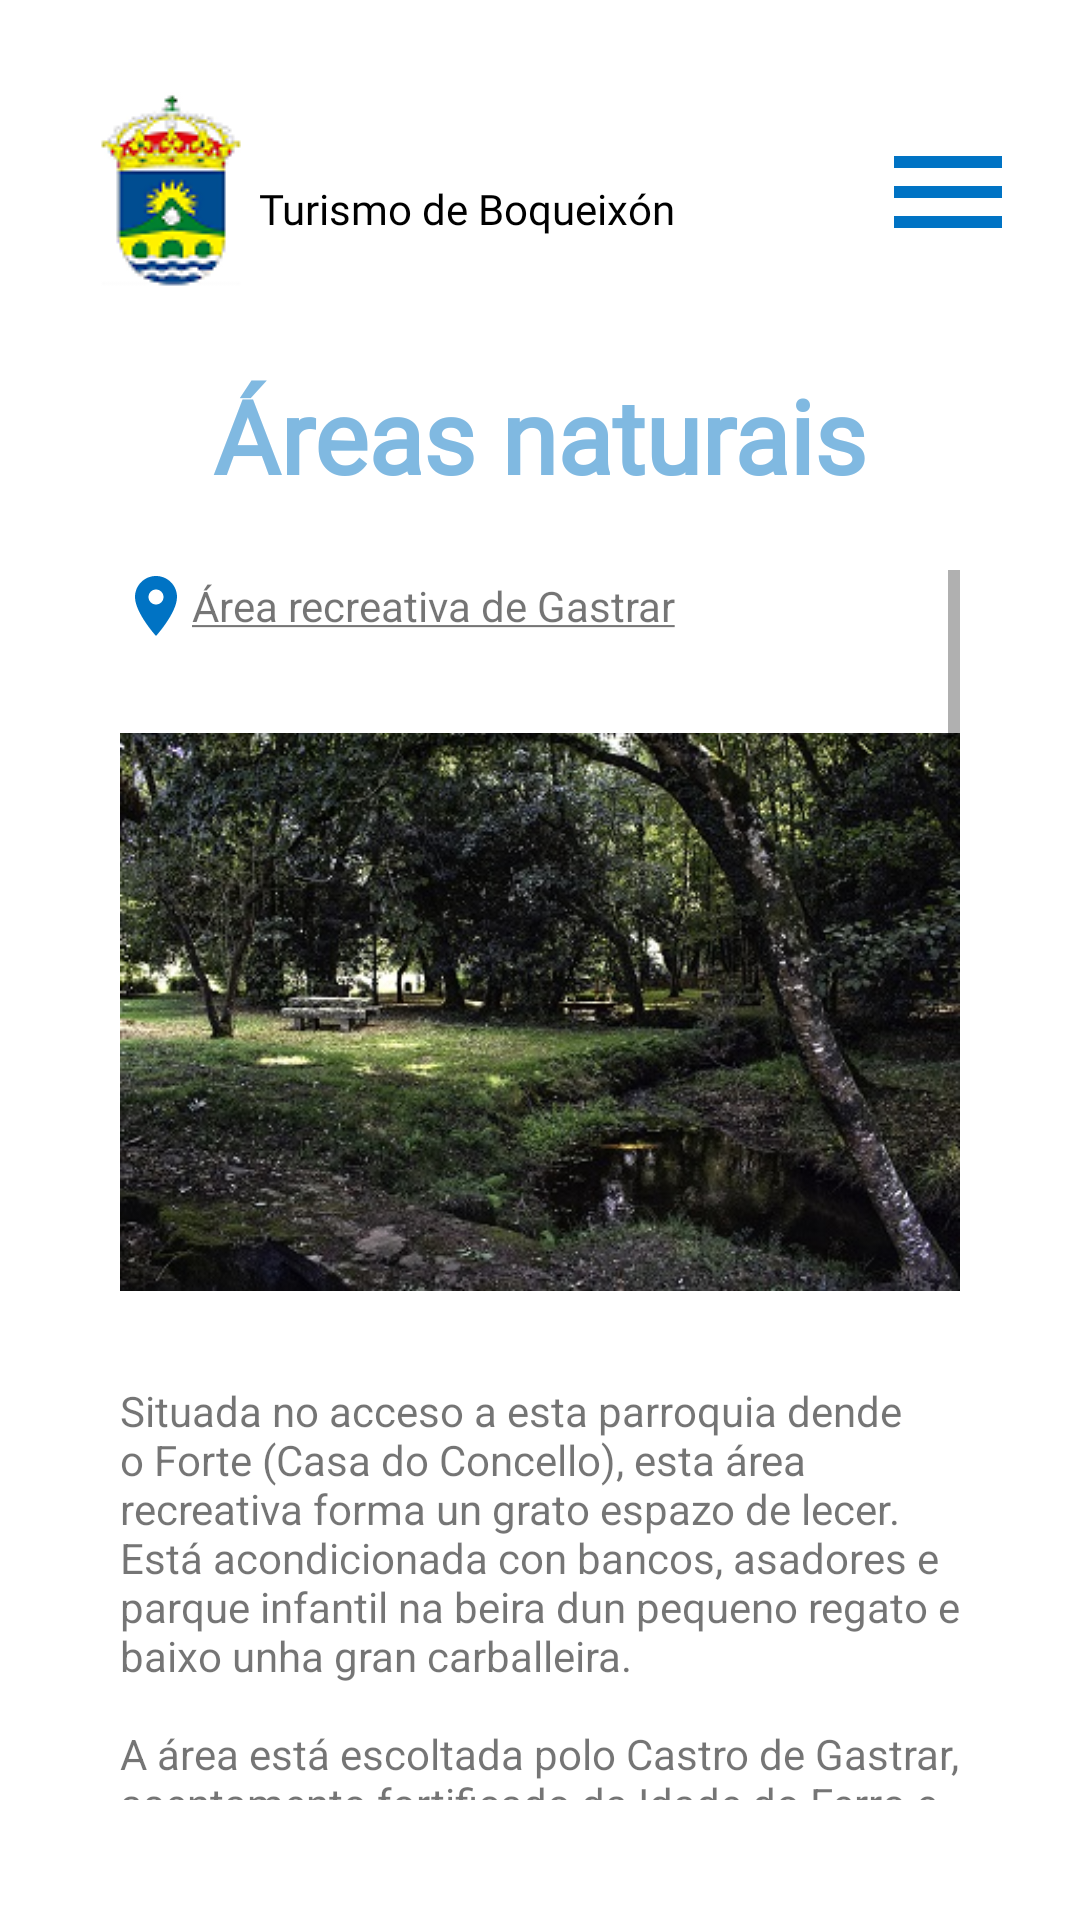

Screen size 1080px x 1920px. Icon name, then its center in pixels as [x,y]:
hamburguesa: [948,192]
